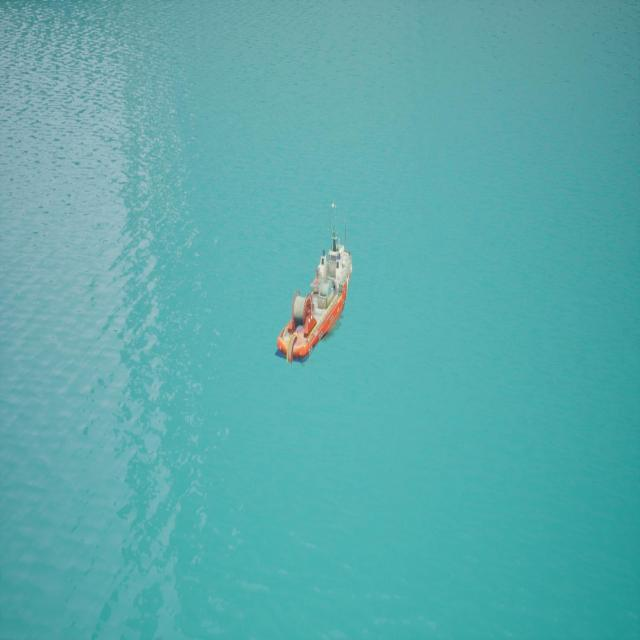tug boat: (297, 203, 354, 361)
